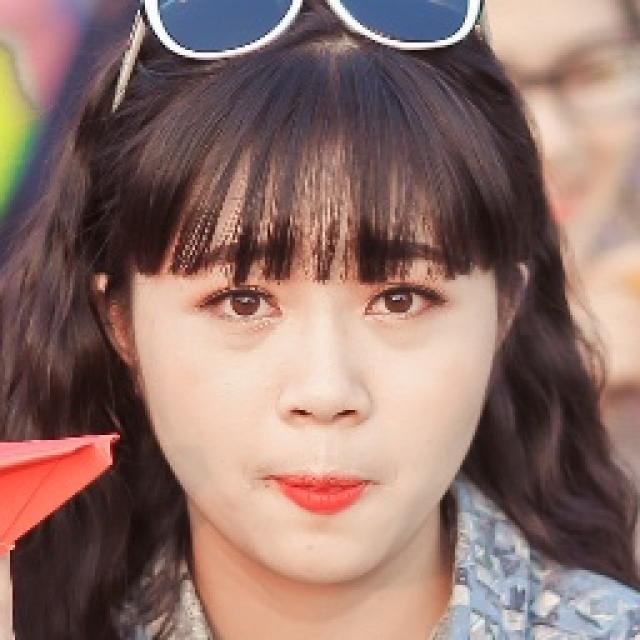earlobe: (86, 272, 147, 400), (489, 253, 531, 361)
